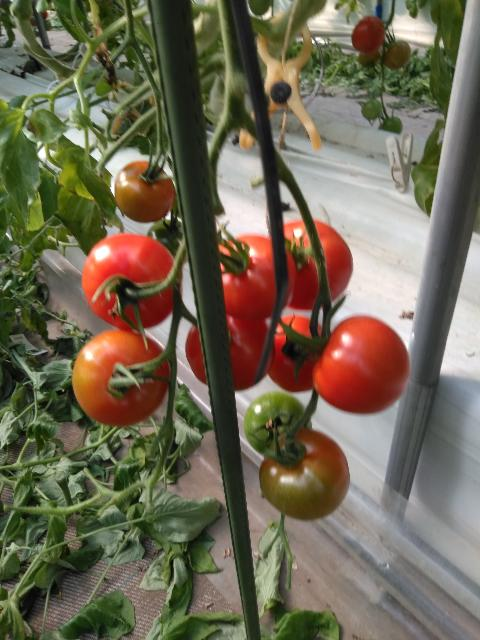l_fully_ripened: (80, 233, 183, 330), (312, 316, 411, 414), (269, 220, 354, 310), (185, 312, 274, 391), (218, 234, 296, 321), (267, 314, 331, 392)
l_green: (244, 392, 313, 457), (146, 218, 188, 266)
l_half_ripened: (71, 330, 170, 428), (259, 428, 351, 523), (115, 161, 176, 222)
